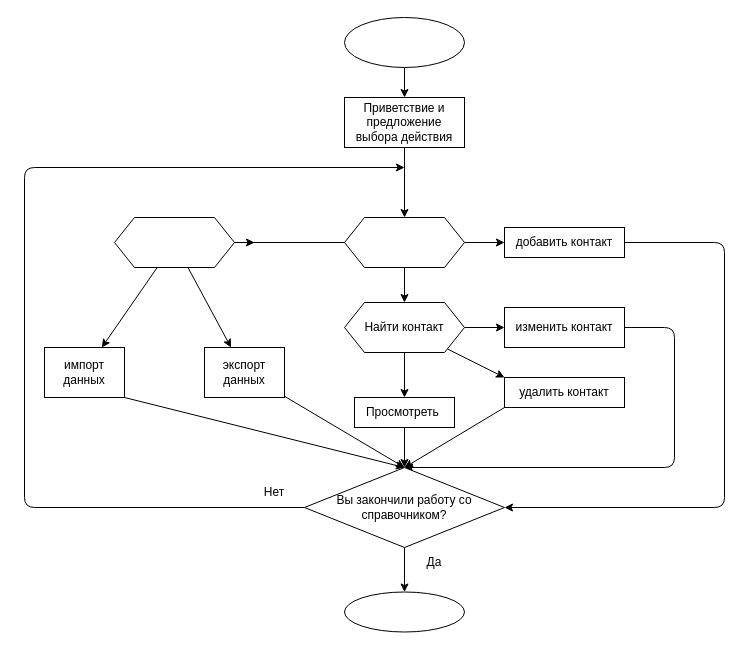
This 750x650 diagram has some shape labels left out. The centre of each missing label's shape, as x and y in pixels:
Выбор действия: [404,242]
описание и возможности программы: [404,42]
Прощание: [404,611]
Работа с данными: [174,242]
